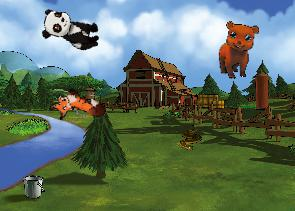bear: (218, 21, 260, 79)
fox: (46, 81, 108, 136)
panda: (38, 6, 104, 53)
